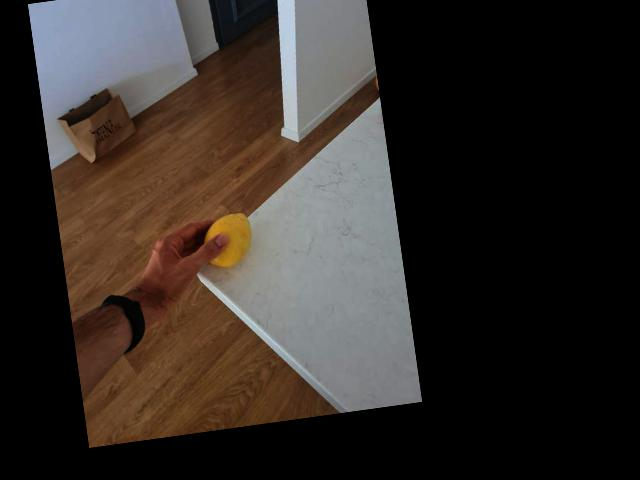lemon: (198, 215, 254, 267)
